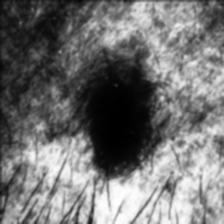Potentially Malignant Skin Tumors: (82, 82, 150, 177)
